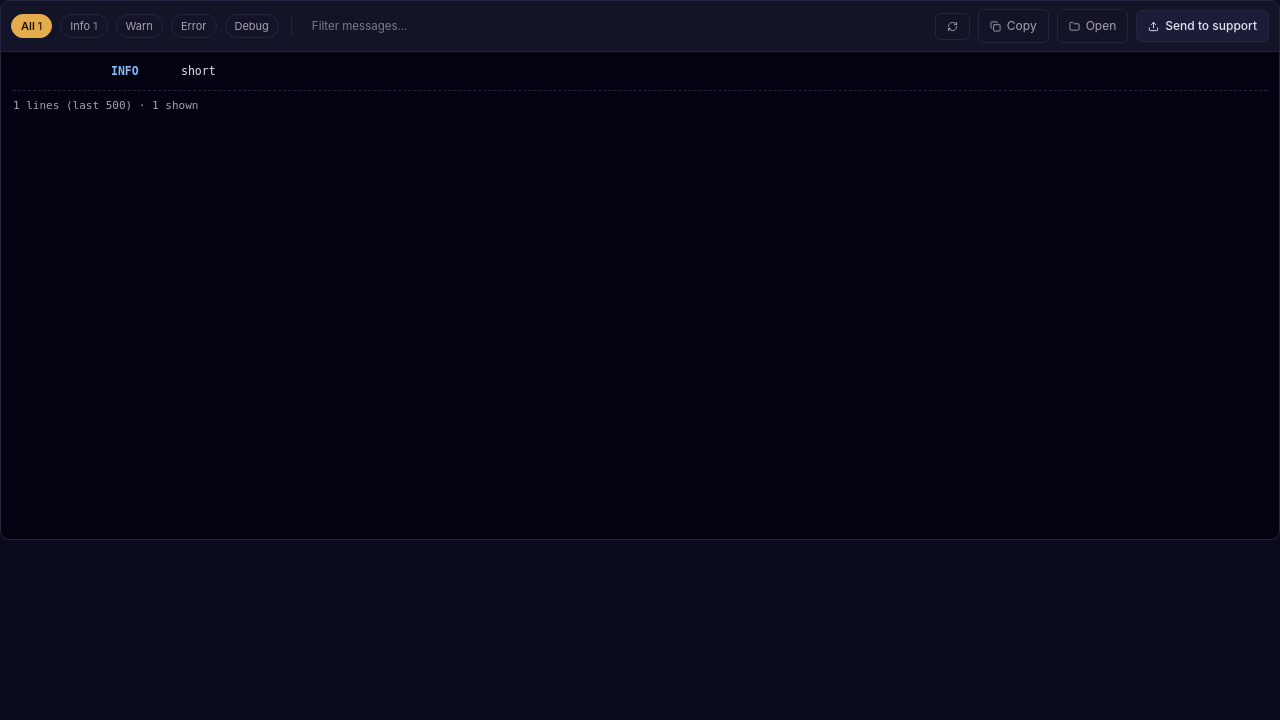
Scenario: <LogsViewer> › Open button shows toast.error when open_log_file rejects
This screenshot has width=1280, height=720.
Expected: the text "short" is shown, [181,64,216,78]
Click the button "Open" at (1092, 26), box [1057,9,1128,43]
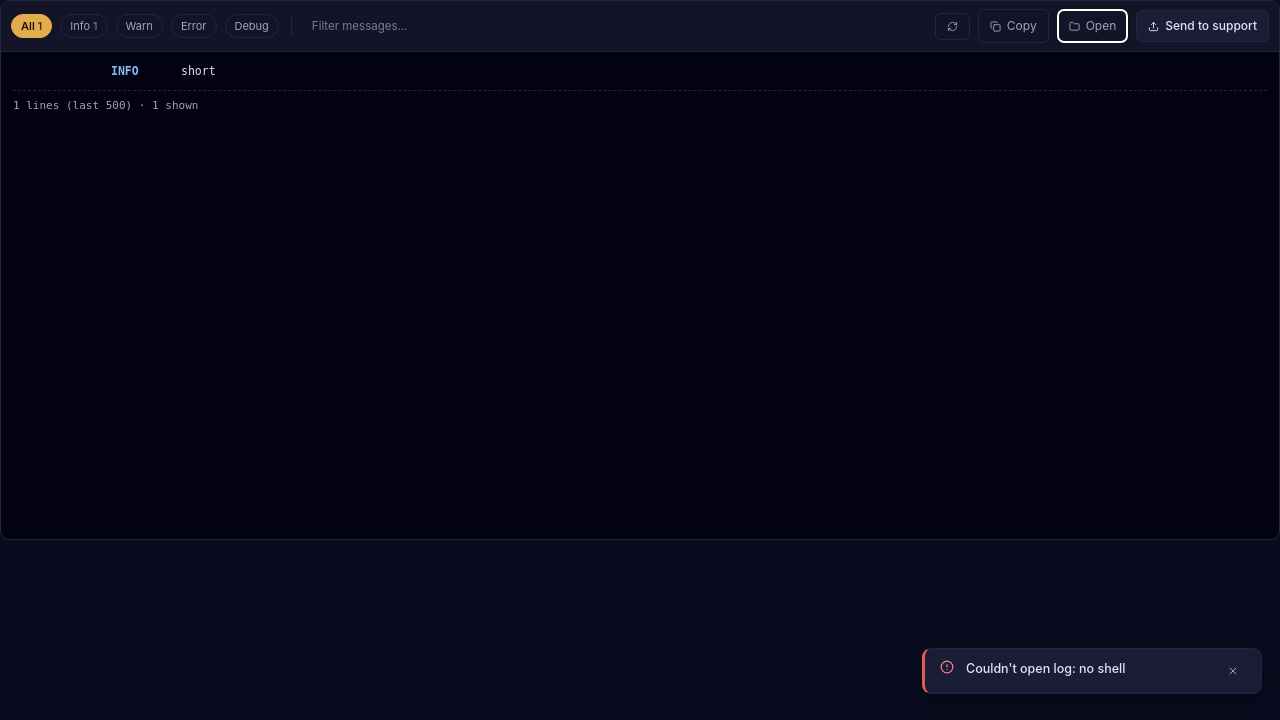
Now the text "Couldn't open log: no shell" is shown, box [966,661,1125,676]
